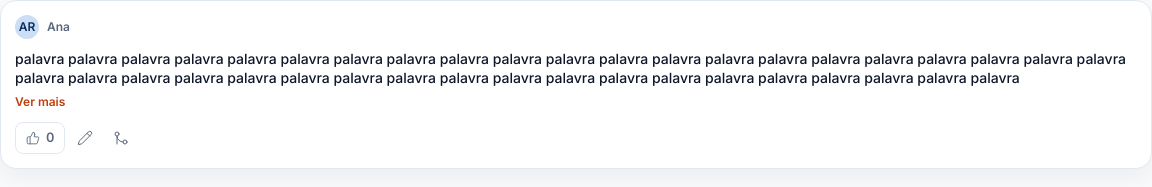
cartão de ideia: voto e destaque › texto longo corta em três linhas e abre com "Ver mais"
Click the button "Ver mais": (40, 102) x1=15 y1=94 x2=65 y2=110
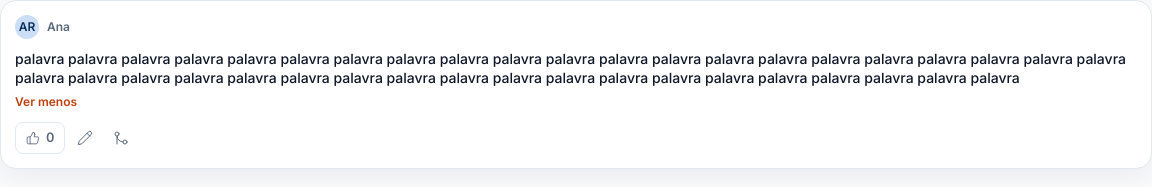
Expected: the button "Ver menos" is shown, x1=15 y1=94 x2=77 y2=110
